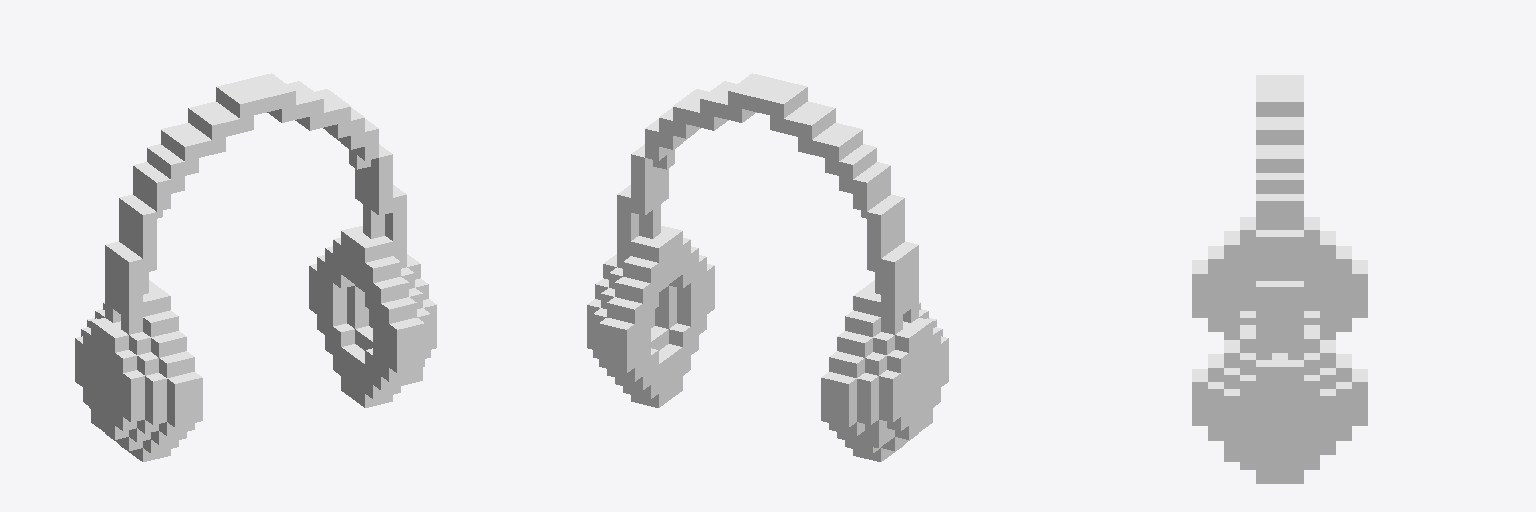
File: headphones.obj
3 renders of one model, left to right at view 1: azimuth 30°, elevation 25°; view 2: azimuth 150°, elevation 25°; view 3: azimuth 270°, elevation 25°, orthographic.
Visible parts, largest first — view 1: object 1; view 2: object 1; view 3: object 1.
Part boxes in pixels (x1,y1,x2,y2): object 1: (75,73,436,461); object 1: (587,73,948,461); object 1: (1192,75,1367,483).
Bounding box in the file's own units: 2.2 × 2.3 × 1.1.